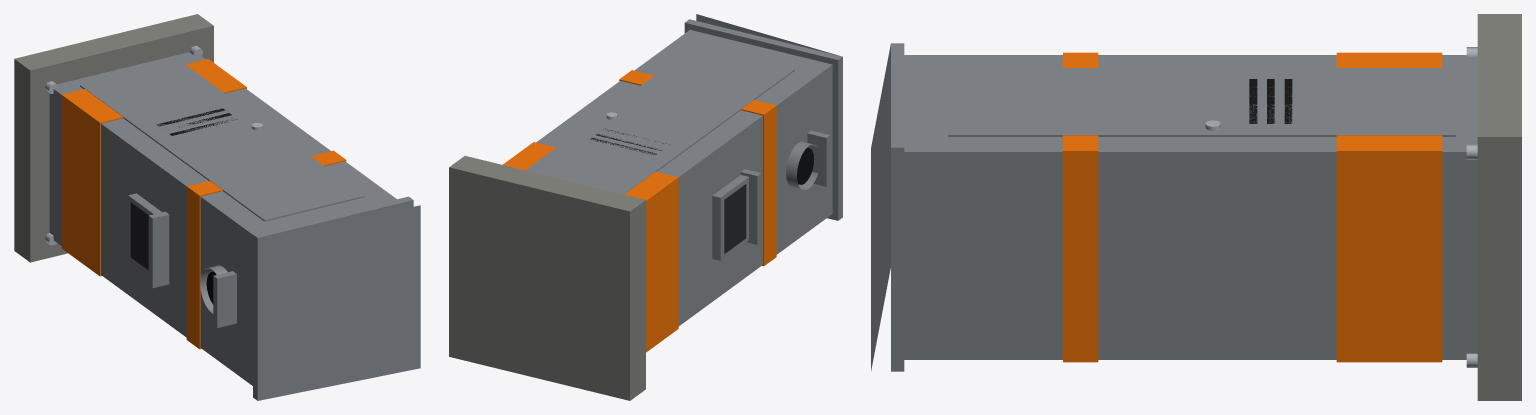
File: SM_Radar_Fijo_DGT.obj
3 renders of one model, left to right at view 1: azimuth 30°, elevation 25°; view 2: azimuth 150°, elevation 25°; view 3: azimuth 270°, elevation 25°, orthographic. The views are drawn at different scales.
Visible parts, largest first — view 1: SM_Radar_Fijo_DGT; view 2: SM_Radar_Fijo_DGT; view 3: SM_Radar_Fijo_DGT.
Boxes of the visible parts, x1,y1,x2,y2 form: SM_Radar_Fijo_DGT: (14, 14, 420, 400); SM_Radar_Fijo_DGT: (449, 14, 842, 400); SM_Radar_Fijo_DGT: (871, 14, 1521, 400).
Bounding box in the file's own units: 66 × 66 × 148.
